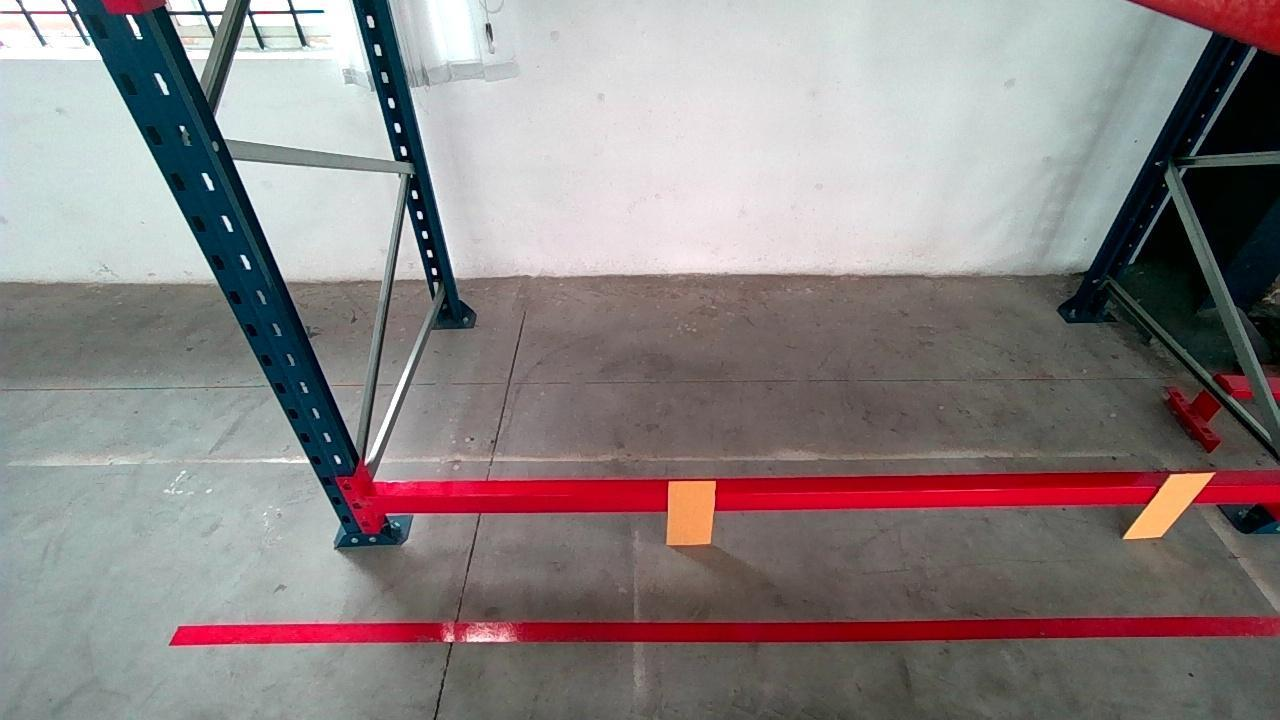h_rack: (365, 481, 1280, 511)
orange_strip: (1127, 471, 1214, 537), (667, 479, 717, 543)
red_line: (174, 615, 1280, 642)
